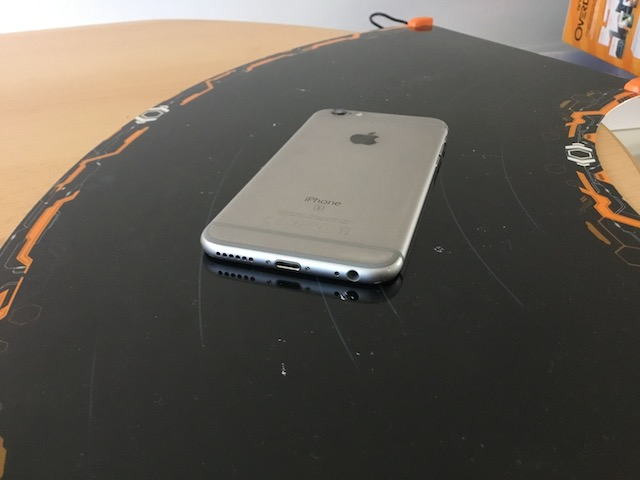phone: (197, 105, 451, 292)
